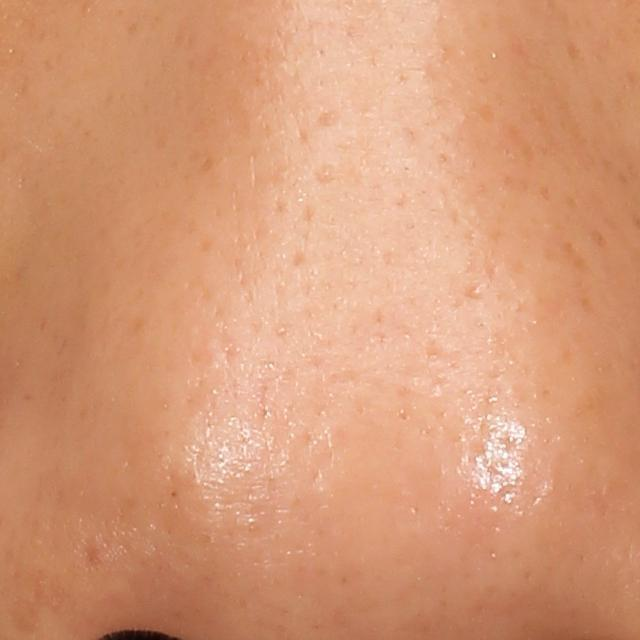atrophic_scar: (460, 282, 482, 300)
